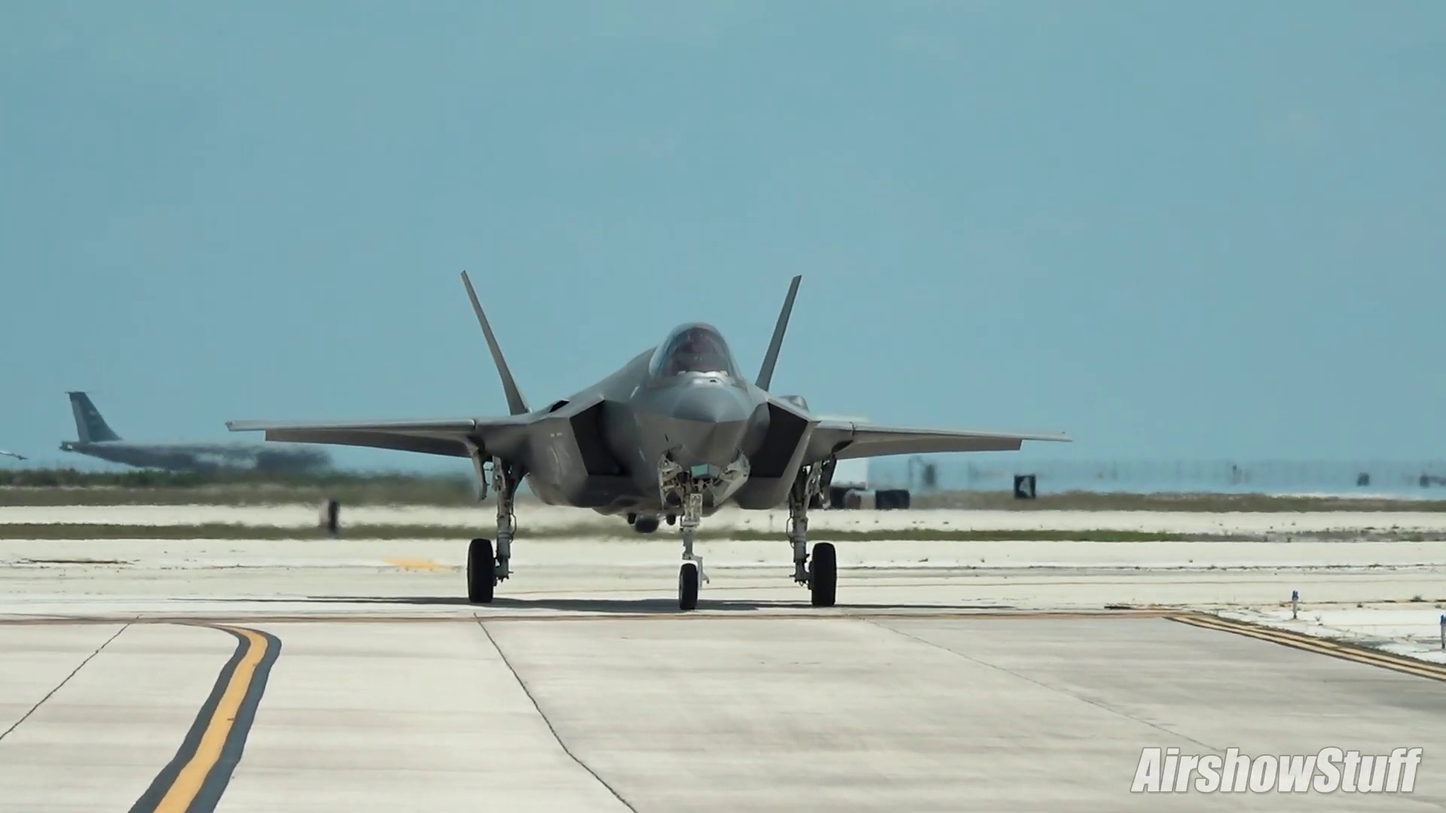F35: (220, 257, 1083, 625)
